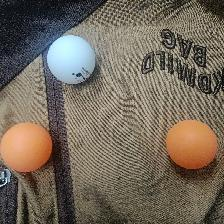WhiteBall: (45, 34, 95, 84)
YellowBall: (0, 122, 51, 171), (166, 120, 216, 168)
